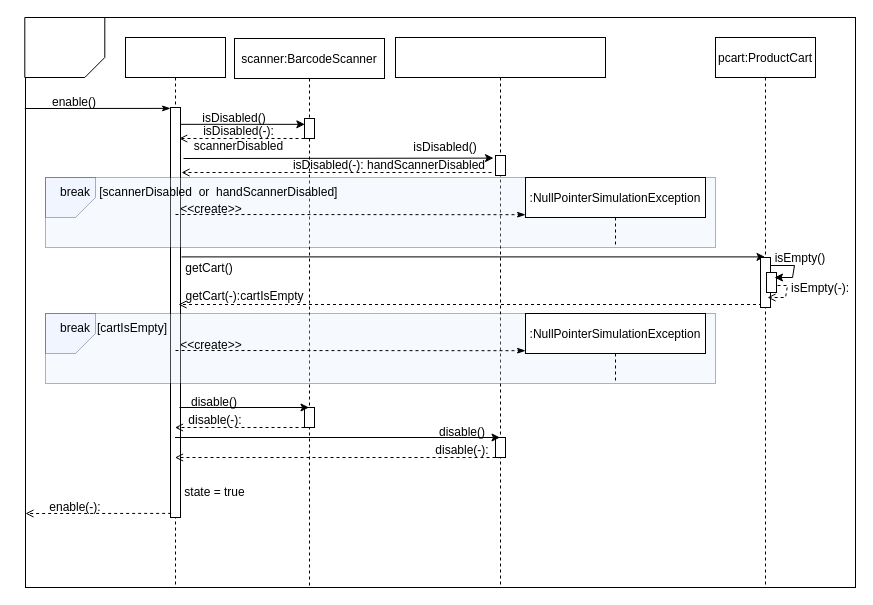
Some shapes in this 873 by 605 pixel diagram are drawn without their labels. Each missing label, with the box of its shape:
:checkout(): (124, 36, 226, 588)
handScanner:BarcodeScanner: (394, 36, 606, 588)
sd proceed to checkout: (24, 16, 105, 78)
